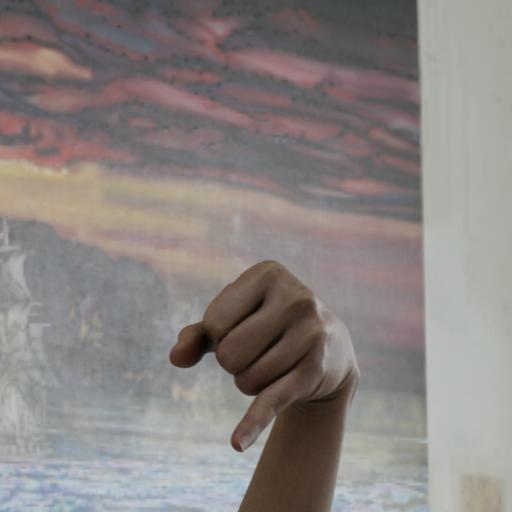J: (167, 256, 373, 458)
